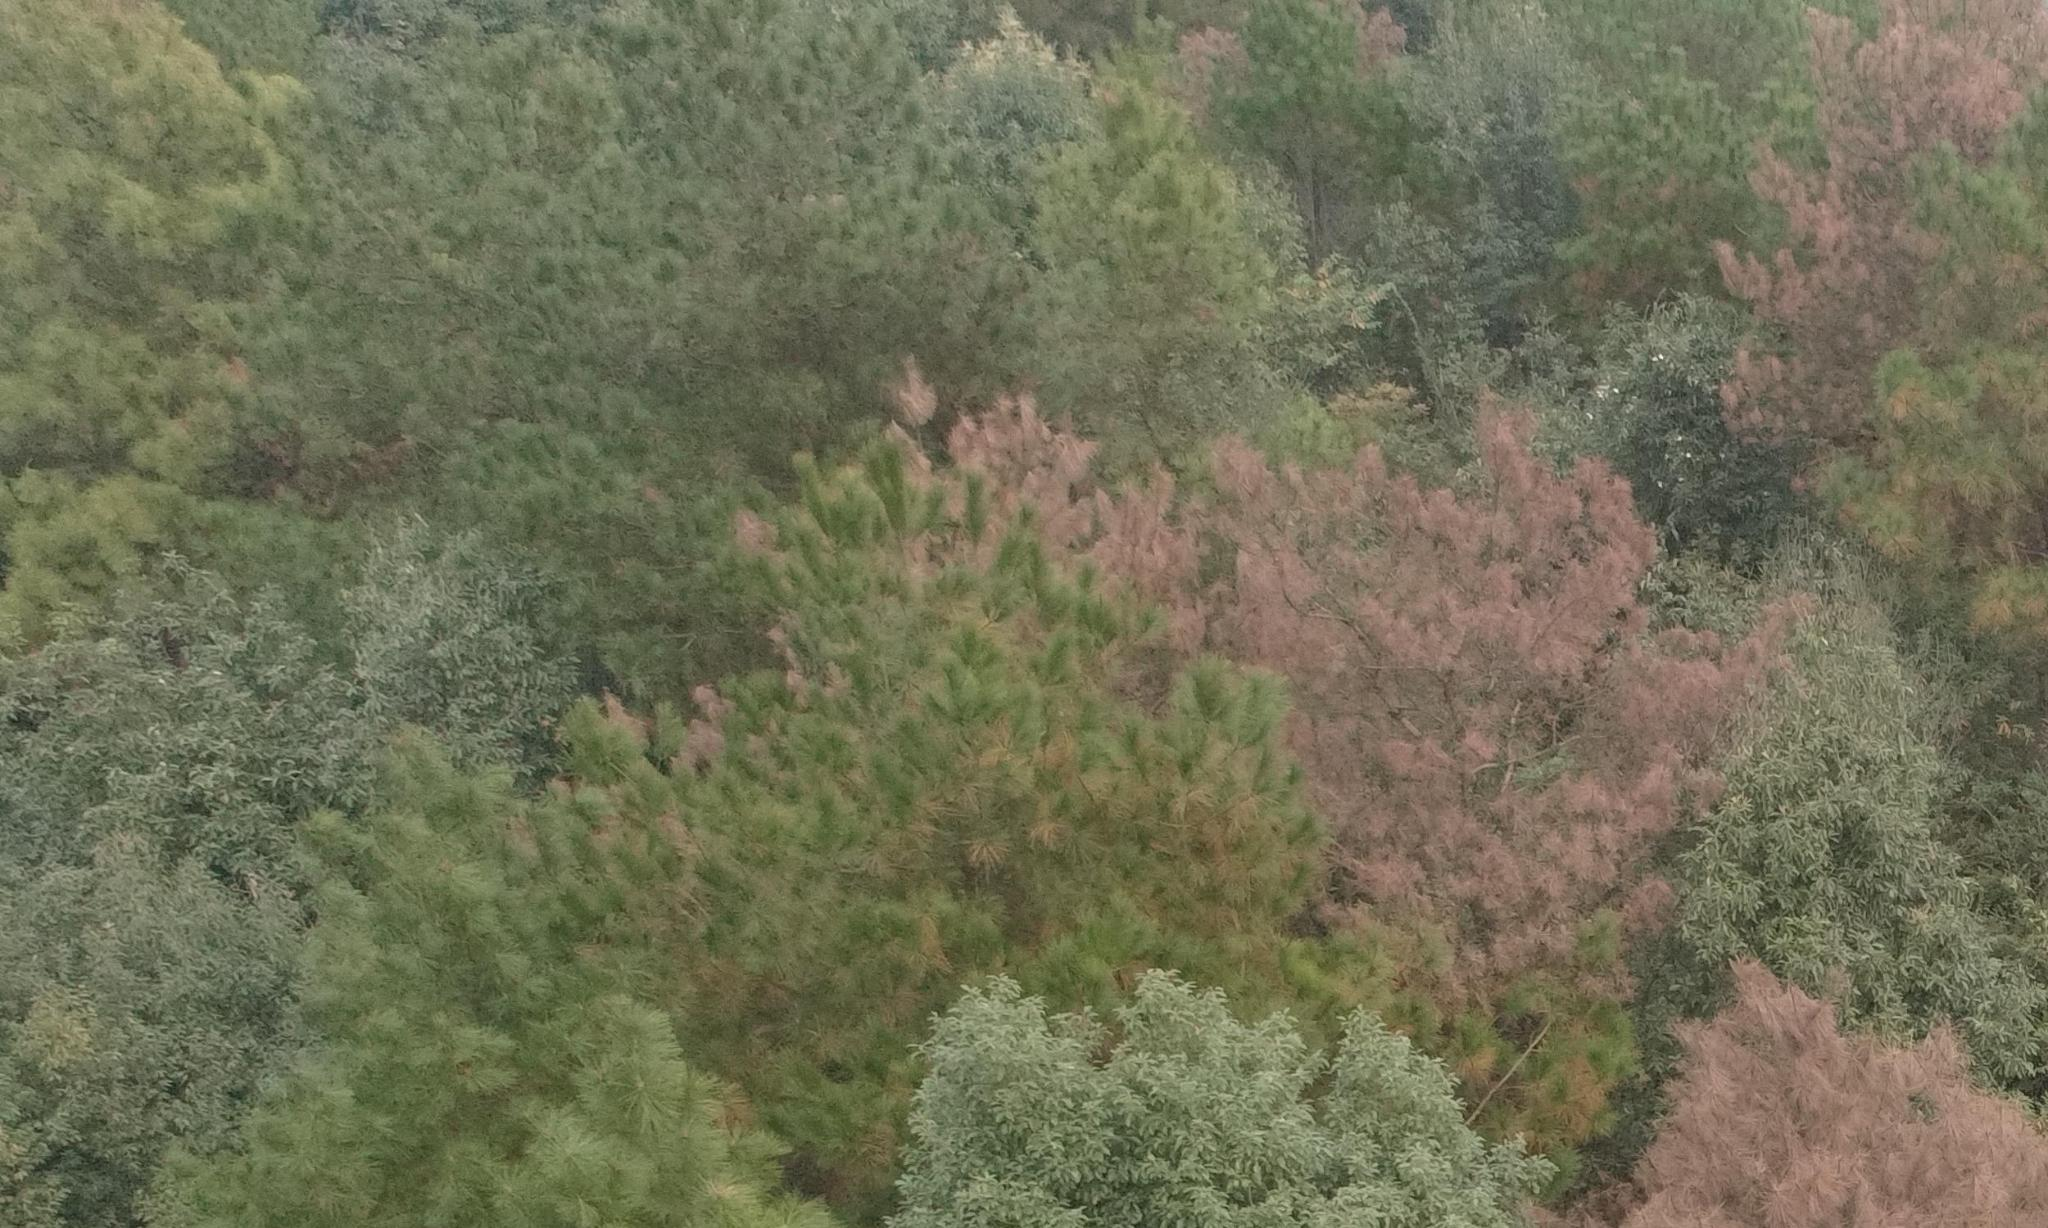heavy: (908, 399, 1826, 1020), (1547, 941, 2048, 1228)
